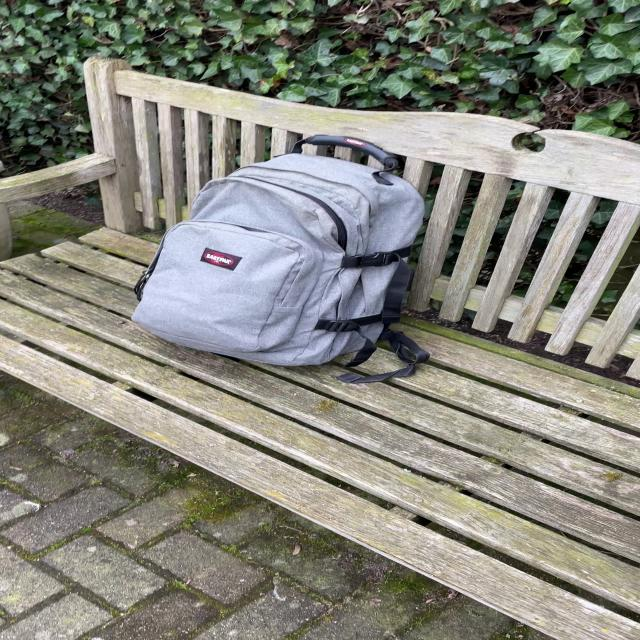backpack: (117, 130, 436, 371)
